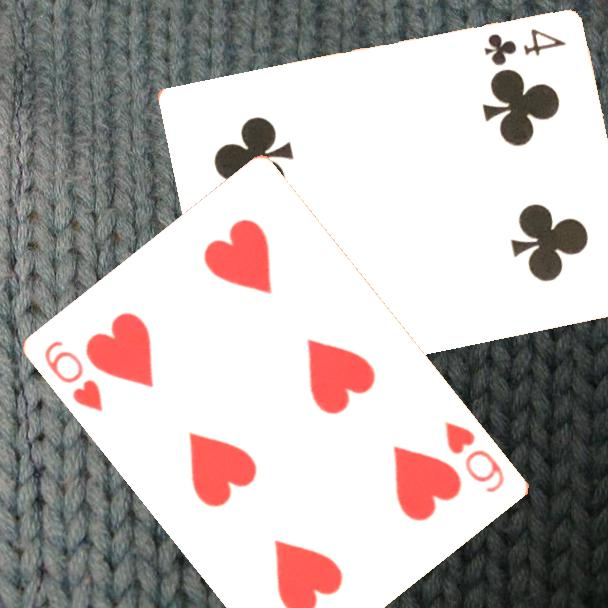c04: (480, 25, 569, 68)
h06: (441, 418, 509, 496), (41, 337, 107, 415)
